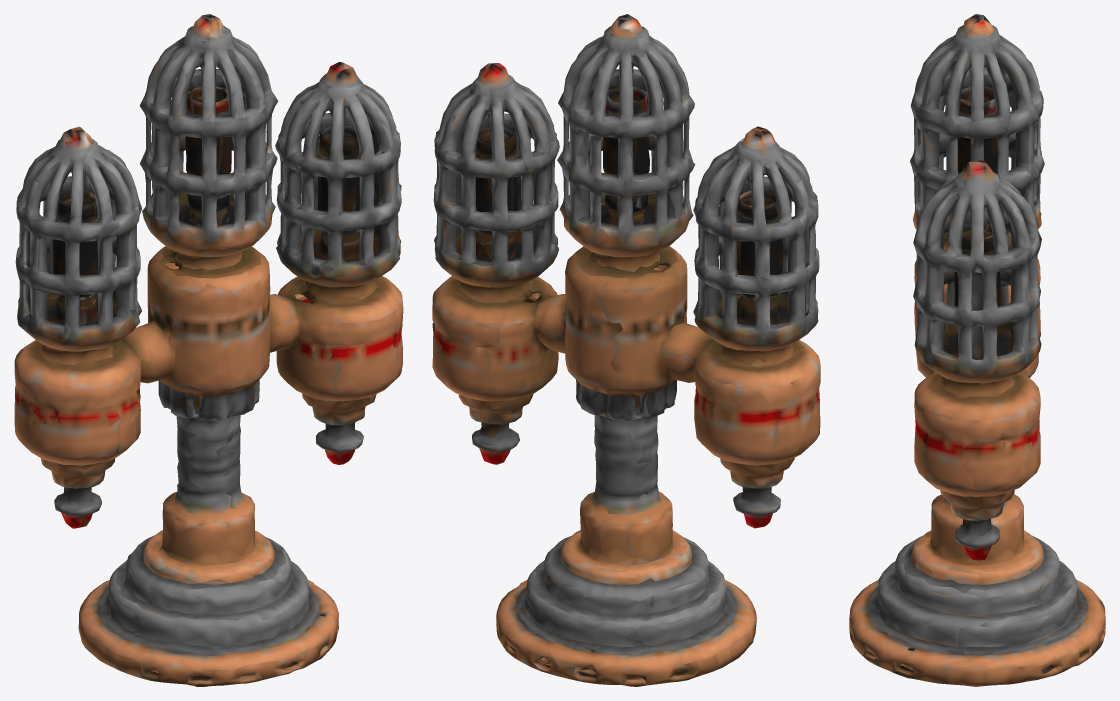
Rendered from CBRA_stand_mesh.obj.
The picture shows the model from 3 angles, left to right: view 1: azimuth 30°, elevation 25°; view 2: azimuth 150°, elevation 25°; view 3: azimuth 270°, elevation 25°; orthographic projection.
Size of the model in its own units: 0.6299 by 0.9997 by 0.3766.
Materials: 1 (1 with a texture image).
